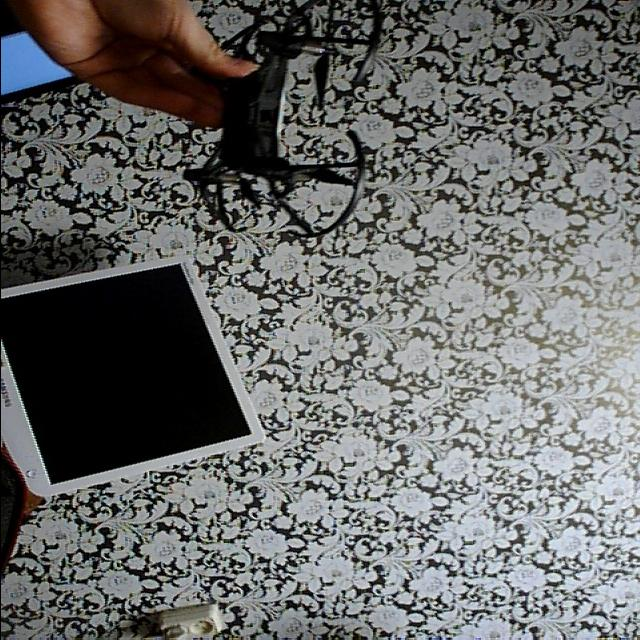drone: (158, 2, 410, 245)
